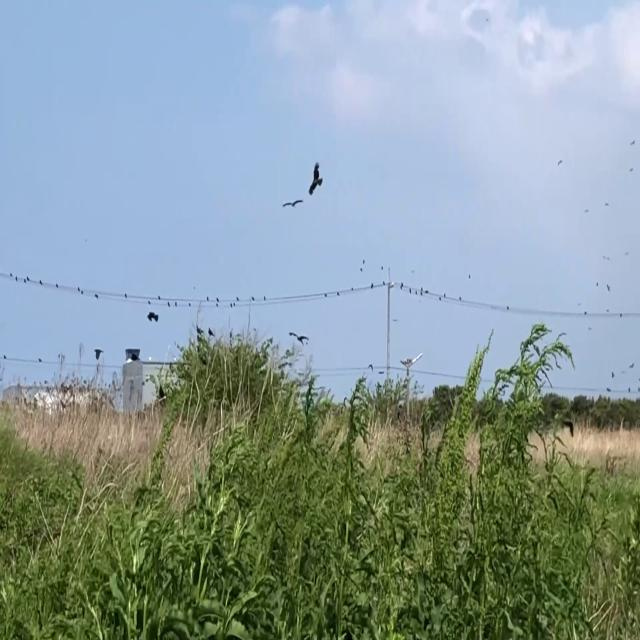bird: (308, 154, 323, 206), (284, 191, 303, 215), (147, 303, 158, 326), (568, 419, 574, 437)
